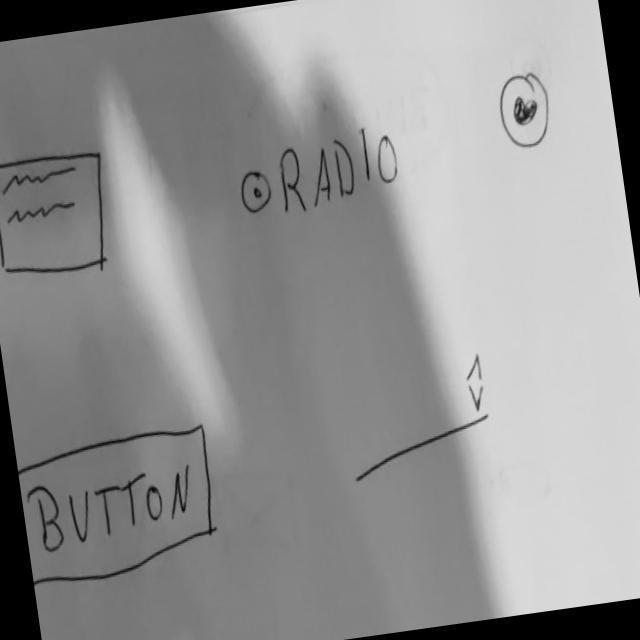button: (16, 421, 226, 594)
icon-button: (494, 66, 559, 156)
number-input: (339, 347, 502, 491)
radio: (238, 163, 275, 222)
textarea: (1, 141, 120, 286)
